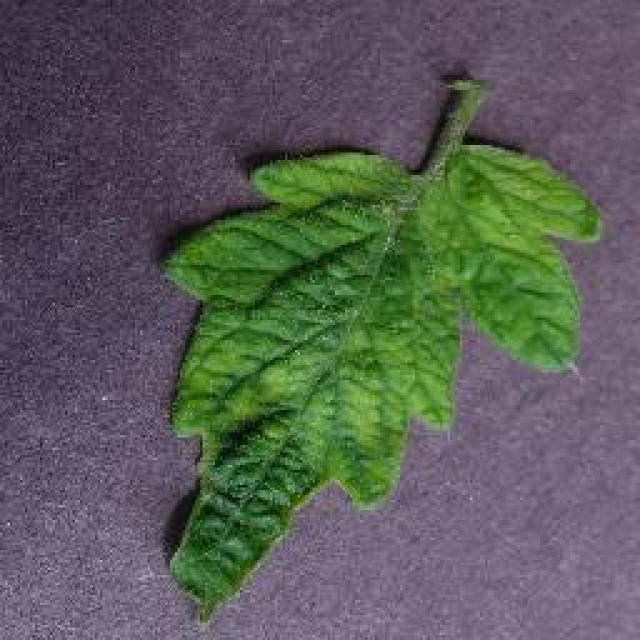Tomato spider mites leaf: (160, 136, 610, 629)
